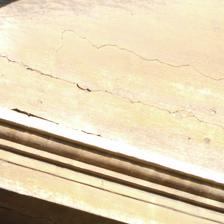Crack: (67, 111, 160, 165), (182, 135, 224, 188)
